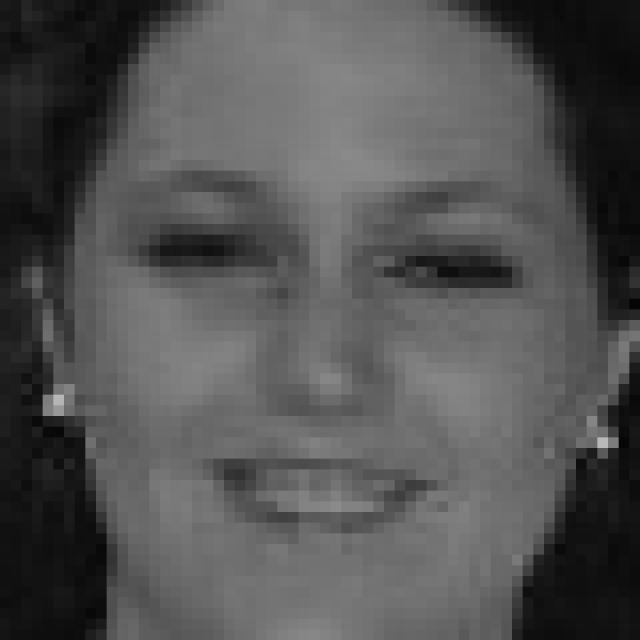real: (65, 0, 608, 640), (112, 184, 530, 308)
